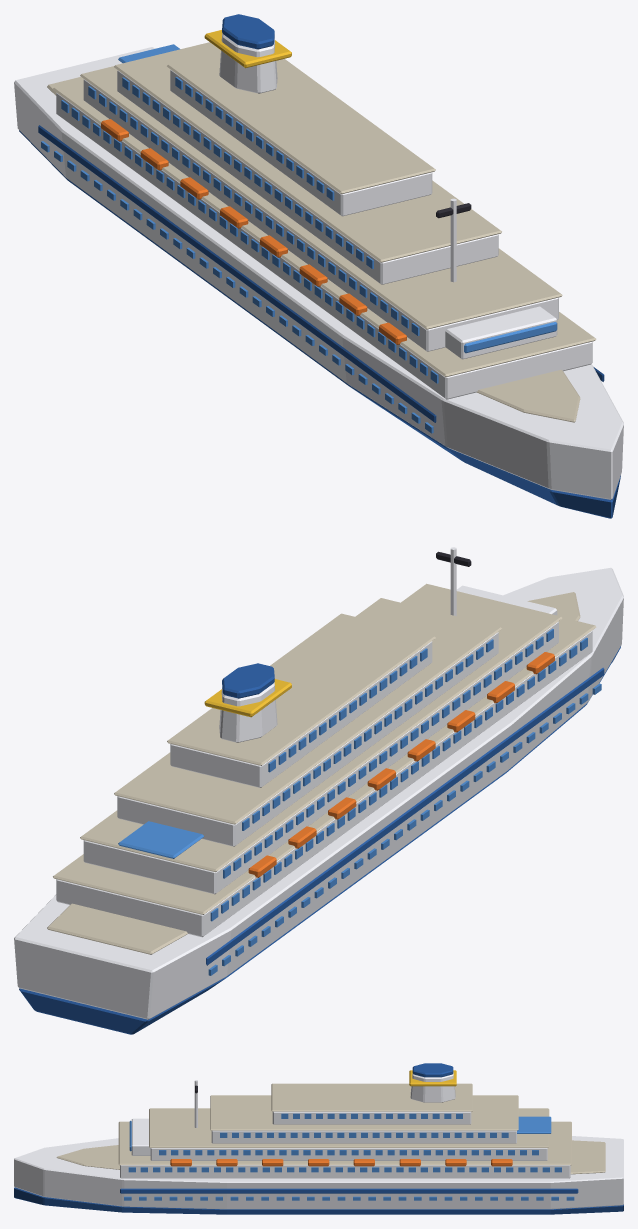
File: cruise-ship.glb
3 renders of one model, top to bottom at view 1: azimuth 30°, elevation 25°; view 2: azimuth 150°, elevation 25°; view 3: azimuth 270°, elevation 25°, orthographic. The views are drawn at different scales.
Parts seen in each view (by area): view 1: CruiseShip; view 2: CruiseShip; view 3: CruiseShip.
Boxes of the visible parts, bbox=[...] form: CruiseShip: bbox=[14, 14, 623, 518]; CruiseShip: bbox=[14, 547, 623, 1034]; CruiseShip: bbox=[14, 1063, 623, 1214].
Bounding box in the file's own units: 1.48 × 1.88 × 7.99.
1 material, 1 textured.
